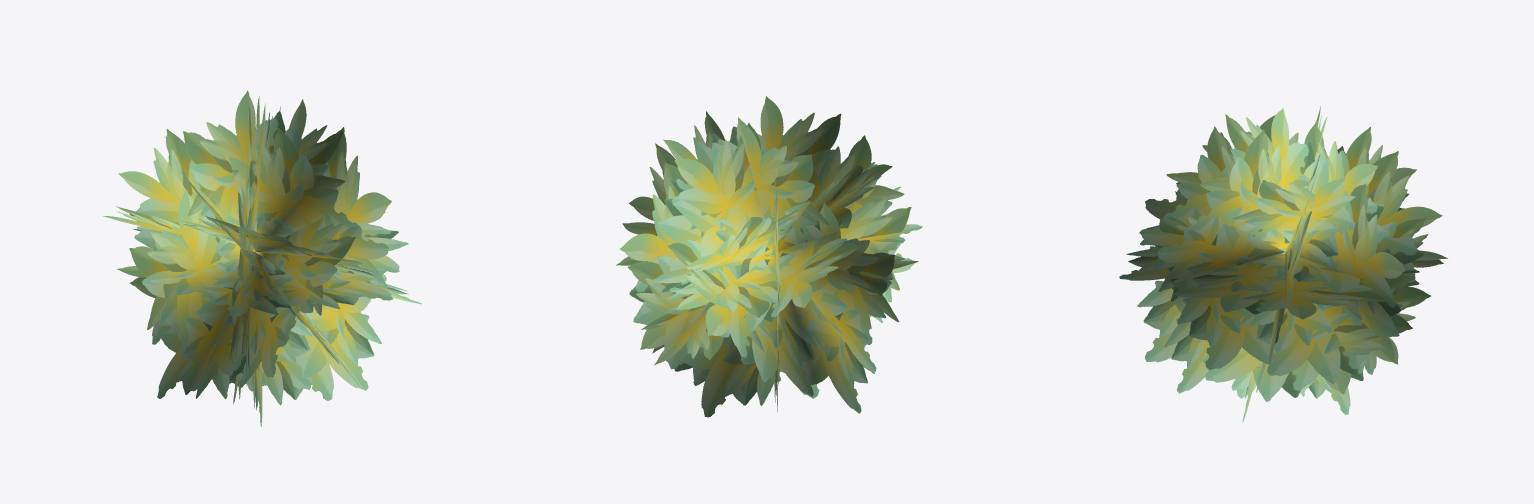
The model's file is feuilles_test.FBX.
3 renders of one model, left to right at view 1: azimuth 30°, elevation 25°; view 2: azimuth 150°, elevation 25°; view 3: azimuth 270°, elevation 25°, orthographic. The views are drawn at different scales.
Visible parts, largest first — view 1: feuilles001; view 2: feuilles001; view 3: feuilles001.
Part boxes in pixels (x1,y1,x2,y2): feuilles001: (103, 90, 421, 426); feuilles001: (616, 96, 922, 417); feuilles001: (1119, 106, 1447, 422).
Bounding box in the file's own units: 84.41 × 97.64 × 93.
